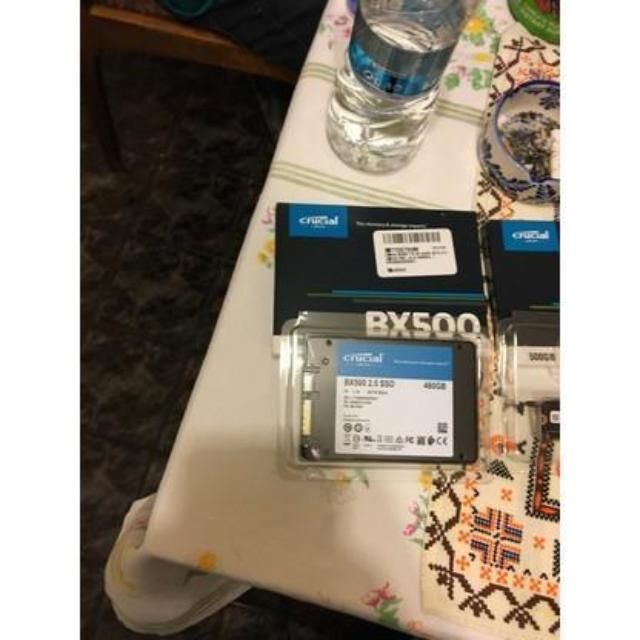DISK: (300, 330, 480, 468)
